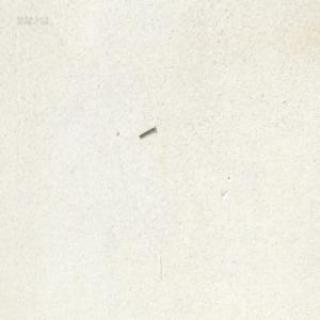Bolttrack_idkeyframe: (138, 124, 154, 138)
